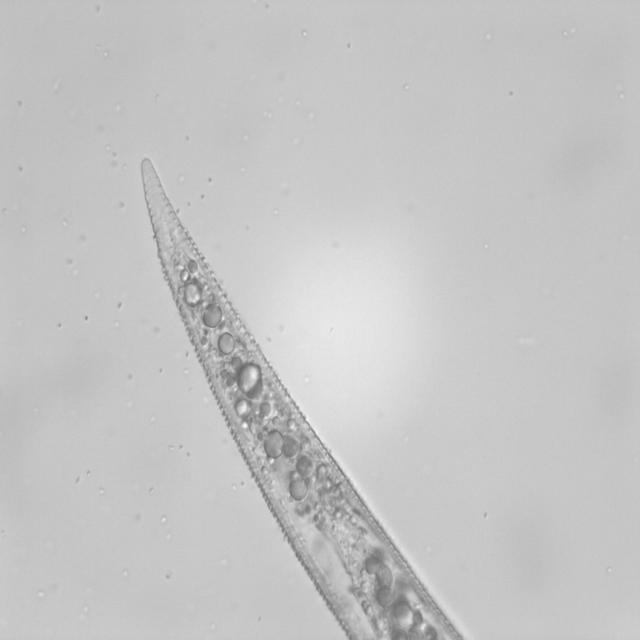Radopholus: (127, 153, 471, 640)
